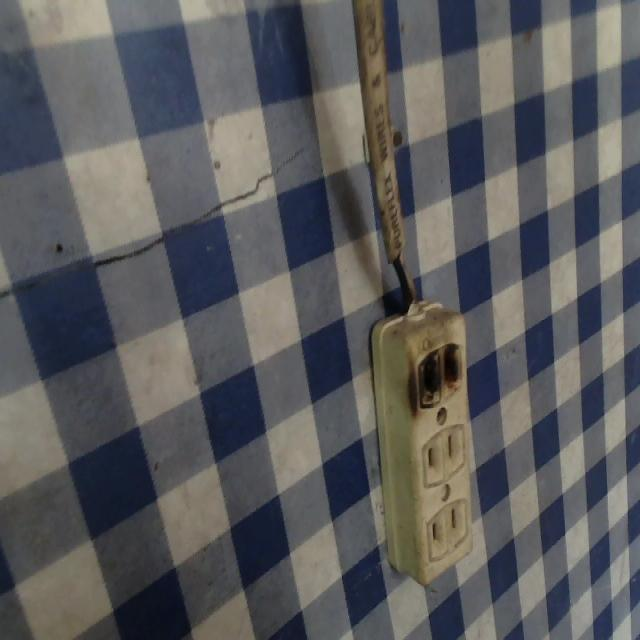-: (409, 334, 473, 410)
